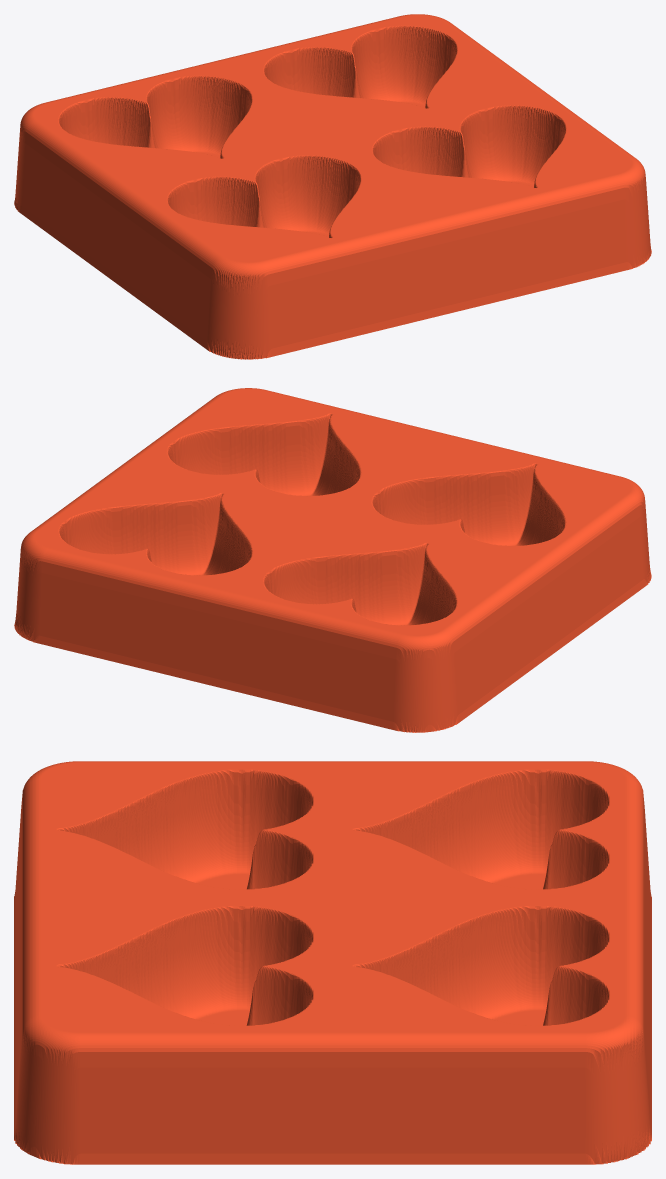
File: mold.glb
3 views of the same model, one above another, from view 1: azimuth 30°, elevation 25°; view 2: azimuth 150°, elevation 25°; view 3: azimuth 270°, elevation 25° (orthographic). The views are drawn at different scales.
Parts seen in each view (by area): view 1: geometry_0; view 2: geometry_0; view 3: geometry_0.
Boxes of the visible parts, x1,y1,x2,y2 form: geometry_0: (14, 14, 651, 359); geometry_0: (14, 388, 651, 732); geometry_0: (14, 761, 651, 1164).
Size of the model in its own units: 0.0942 by 0.0182 by 0.087.
